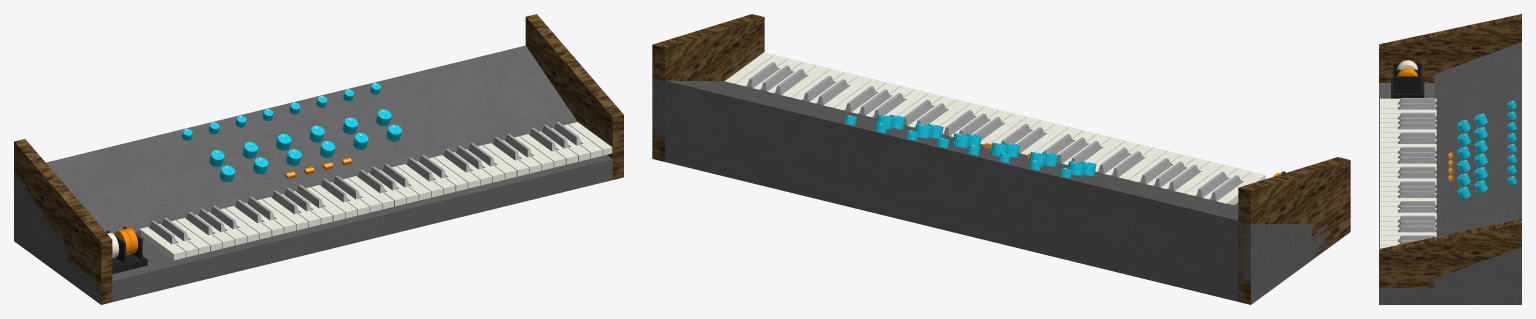
The model's file is Music_keyboard__0149.glb.
3 views of the same model, side by side, from view 1: azimuth 30°, elevation 25°; view 2: azimuth 150°, elevation 25°; view 3: azimuth 270°, elevation 25° (orthographic). The views are drawn at different scales.
Visible parts, largest first — view 1: chassis::angled_panel, chassis::base_shell, chassis::cheek_1, chassis::cheek_0, white_key_0::key_body, chassis::wheel_cheek, white_key_21::key_body, white_key_7::key_body, white_key_14::key_body, white_key_28::key_body, white_key_3::key_body, white_key_10::key_body (+4 smaller); view 2: chassis::angled_panel, chassis::base_shell, chassis::cheek_1, chassis::cheek_0, white_key_3::key_body, white_key_31::key_body, white_key_7::key_body, white_key_28::key_body, white_key_0::key_body, white_key_17::key_body, white_key_14::key_body; view 3: chassis::angled_panel, chassis::cheek_0, chassis::cheek_1, chassis::base_shell, chassis::wheel_bracket_2, black_key_4::key_body, black_key_11::key_body, black_key_19::key_body, chassis::wheel_cheek, white_key_23::key_body, white_key_2::key_body, white_key_13::key_body (+50 smaller).
Part boxes in pixels (x1,y1,x2,y2): chassis::angled_panel: (14,45,577,258); chassis::base_shell: (14,155,612,304); chassis::cheek_1: (14,139,112,304); chassis::cheek_0: (525,14,623,179); white_key_0::key_body: (140,227,185,260); chassis::wheel_cheek: (112,253,147,273); white_key_21::key_body: (397,164,443,197); white_key_7::key_body: (225,206,271,239); white_key_14::key_body: (311,185,357,218); white_key_28::key_body: (483,143,528,176); white_key_3::key_body: (176,218,222,251); white_key_10::key_body: (262,197,308,230); chassis::angled_panel: (652,77,1311,280); chassis::base_shell: (665,138,1331,304); chassis::cheek_1: (1238,157,1350,304); chassis::cheek_0: (652,14,764,161); white_key_3::key_body: (1175,161,1223,193); white_key_31::key_body: (781,65,830,97); white_key_7::key_body: (1118,147,1167,179); white_key_28::key_body: (824,75,872,107); white_key_0::key_body: (1217,171,1265,204); white_key_17::key_body: (980,113,1026,144); white_key_14::key_body: (1020,123,1069,154); chassis::angled_panel: (1434,42,1521,287); chassis::cheek_0: (1379,219,1521,304); chassis::cheek_1: (1379,14,1521,82); chassis::base_shell: (1379,83,1521,304); chassis::wheel_bracket_2: (1393,76,1421,93); black_key_4::key_body: (1398,122,1435,129); black_key_11::key_body: (1398,171,1435,178); black_key_19::key_body: (1398,225,1435,232); chassis::wheel_cheek: (1391,78,1424,98); white_key_23::key_body: (1380,211,1436,216); white_key_2::key_body: (1380,108,1436,113); white_key_13::key_body: (1380,162,1436,167).
Size of the model in its own units: 1.04 by 0.1904 by 0.301.
10 materials, 6 textured.
